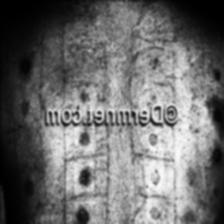Toxin: (210, 146, 222, 166), (211, 106, 223, 124)
